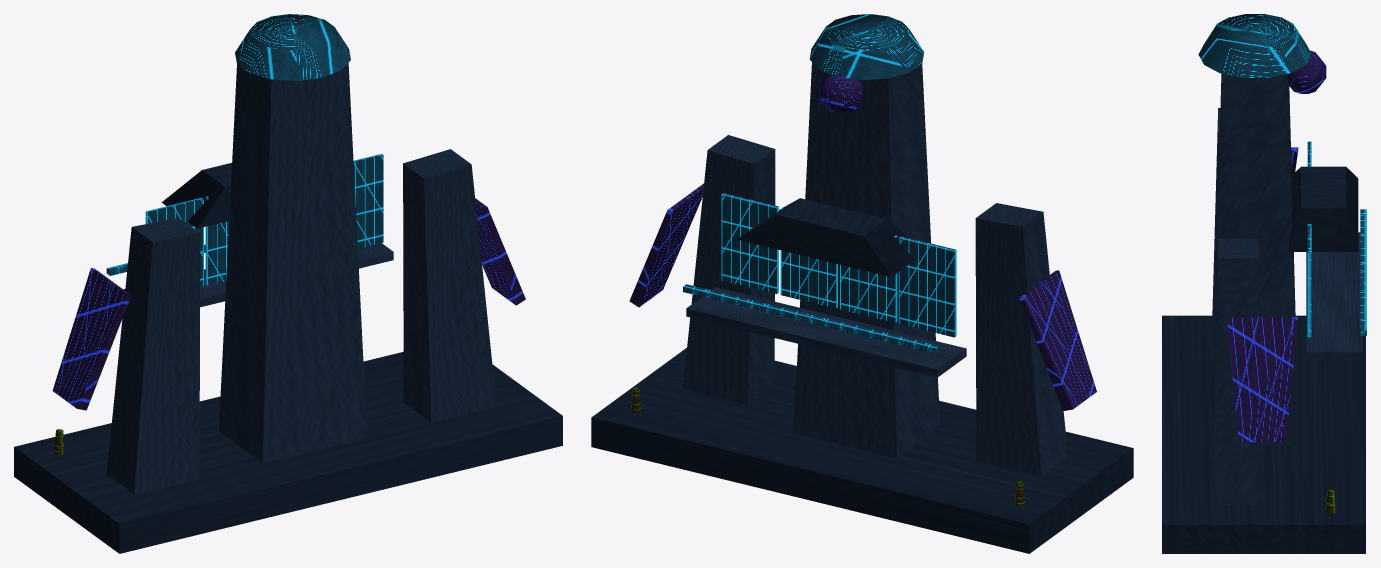
File: command-horizon-command-deck-lod1-textured.glb
3 renders of one model, left to right at view 1: azimuth 30°, elevation 25°; view 2: azimuth 150°, elevation 25°; view 3: azimuth 270°, elevation 25°, orthographic. The views are drawn at different scales.
Visible parts, largest first — view 1: deck-main-tower, deck-foundation, deck-wing--1, deck-wing-1, deck-crown, deck-fin--1, deck-facade-3, deck-canopy, deck-fin-1, deck-facade-1, deck-balcony, deck-facade-0; view 2: deck-foundation, deck-main-tower, deck-wing--1, deck-wing-1, deck-canopy, deck-balcony, deck-crown, deck-fin--1, deck-facade-0, deck-facade-3, deck-fin-1, deck-facade-1 (+4 smaller); view 3: deck-foundation, deck-main-tower, deck-wing-1, deck-fin-1, deck-balcony, deck-canopy, deck-crown, deck-holo-core, deck-wing--1, deck-facade-3.
Part boxes in pixels (left/top/right/bottom): deck-main-tower: left=219, top=63, right=367, bottom=463; deck-foundation: left=14, top=352, right=562, bottom=553; deck-wing--1: left=106, top=218, right=200, bottom=494; deck-wing-1: left=403, top=149, right=496, bottom=422; deck-crown: left=235, top=14, right=350, bottom=80; deck-fin--1: left=52, top=268, right=131, bottom=410; deck-facade-3: left=353, top=154, right=383, bottom=248; deck-canopy: left=162, top=163, right=231, bottom=228; deck-fin-1: left=475, top=198, right=525, bottom=305; deck-facade-1: left=205, top=196, right=229, bottom=285; deck-balcony: left=123, top=243, right=393, bottom=307; deck-facade-0: left=145, top=197, right=203, bottom=287; deck-foundation: left=591, top=348, right=1133, bottom=553; deck-main-tower: left=793, top=62, right=940, bottom=457; deck-wing--1: left=975, top=203, right=1067, bottom=475; deck-wing-1: left=683, top=135, right=775, bottom=405; deck-canopy: left=737, top=198, right=914, bottom=276; deck-balcony: left=686, top=287, right=966, bottom=377; deck-crown: left=809, top=14, right=924, bottom=80; deck-fin--1: left=1019, top=270, right=1096, bottom=410; deck-facade-0: left=899, top=236, right=956, bottom=337; deck-facade-3: left=721, top=193, right=778, bottom=293; deck-fin-1: left=629, top=183, right=703, bottom=307; deck-facade-1: left=840, top=235, right=897, bottom=322; deck-foundation: left=1162, top=315, right=1365, bottom=553; deck-main-tower: left=1212, top=73, right=1297, bottom=444; deck-wing-1: left=1212, top=238, right=1264, bottom=504; deck-fin-1: left=1227, top=317, right=1297, bottom=442; deck-balcony: left=1306, top=232, right=1362, bottom=360; deck-canopy: left=1289, top=166, right=1358, bottom=251; deck-crown: left=1198, top=14, right=1311, bottom=77; deck-holo-core: left=1288, top=50, right=1326, bottom=93; deck-wing--1: left=1212, top=108, right=1220, bottom=365; deck-facade-3: left=1307, top=226, right=1311, bottom=337.
Bounding box in the file's own units: 6.89 × 6.33 × 2.81.
Materials: 5 (5 with a texture image).
